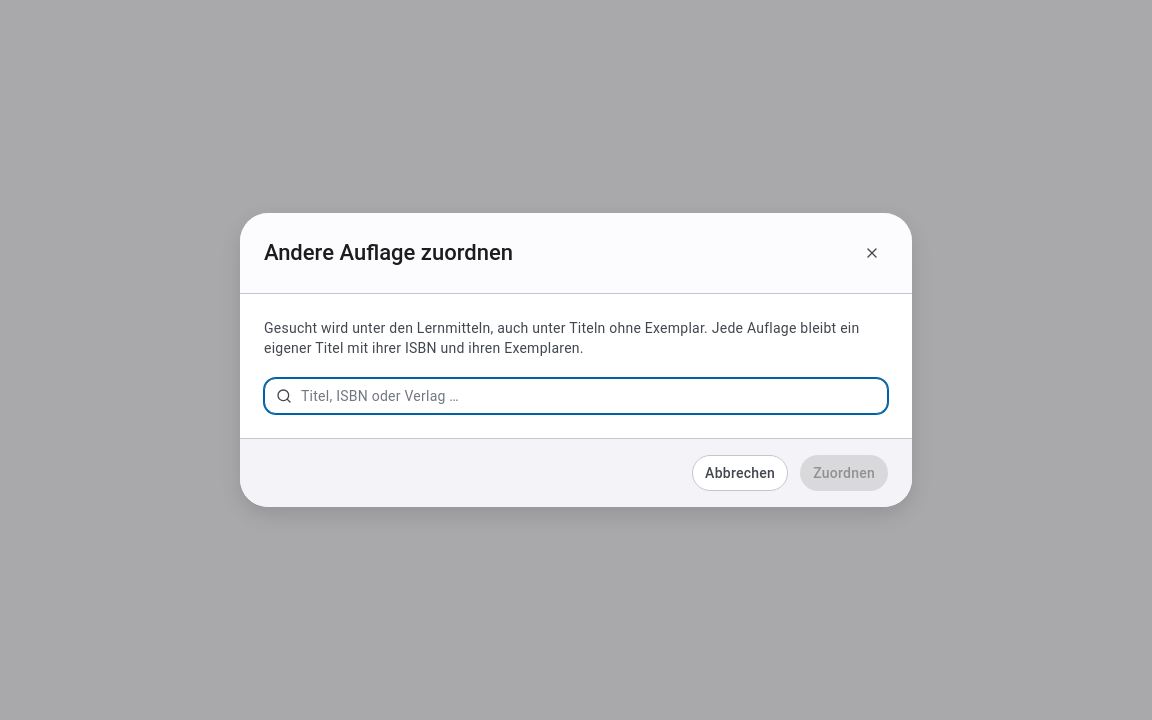
Scenario: AuflageZuordnenDialog › sperrt „Zuordnen" bis zur Wahl, „Abbrechen" nie
Type "Mathe" into the search field named "Andere Auflage suchen" at (576, 396), box [264,378,888,414]
Wait 250 ms
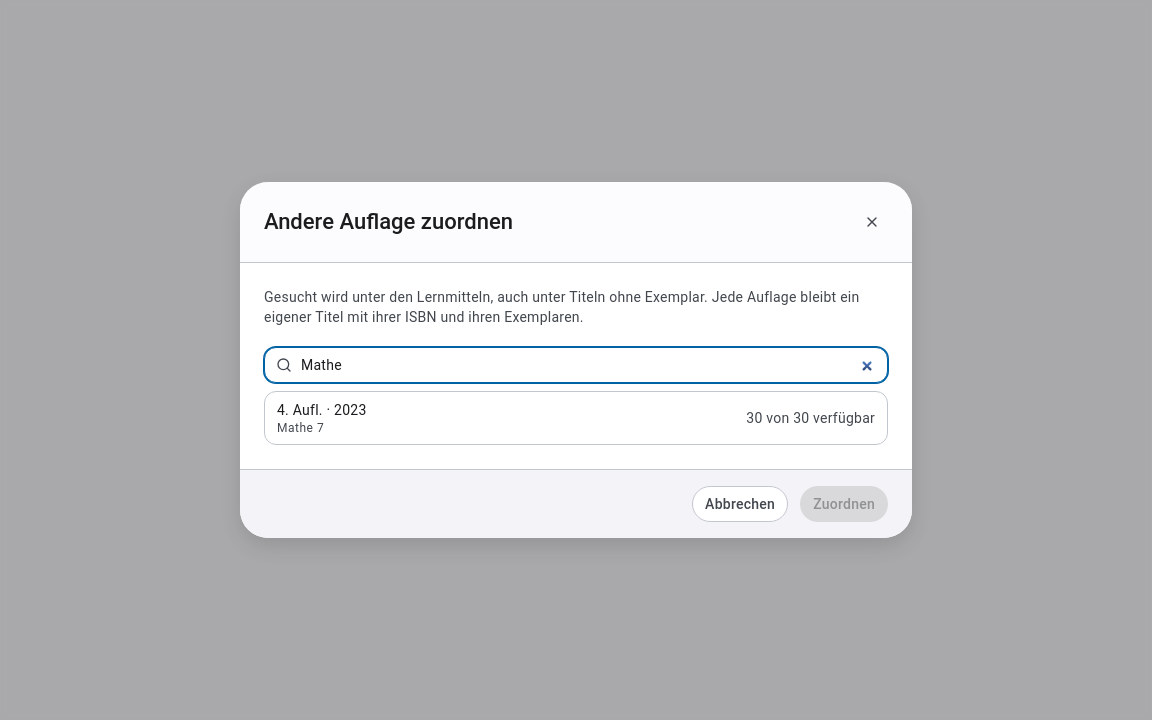
Check: the button "Zuordnen" is disabled, box [800,486,888,522]
Check: the button "Abbrechen" is enabled, box [692,486,788,522]
Click the button "4. Aufl. · 2023 Mathe 7 30 von 30 verfügbar" at (322, 410), box [265,392,887,444]
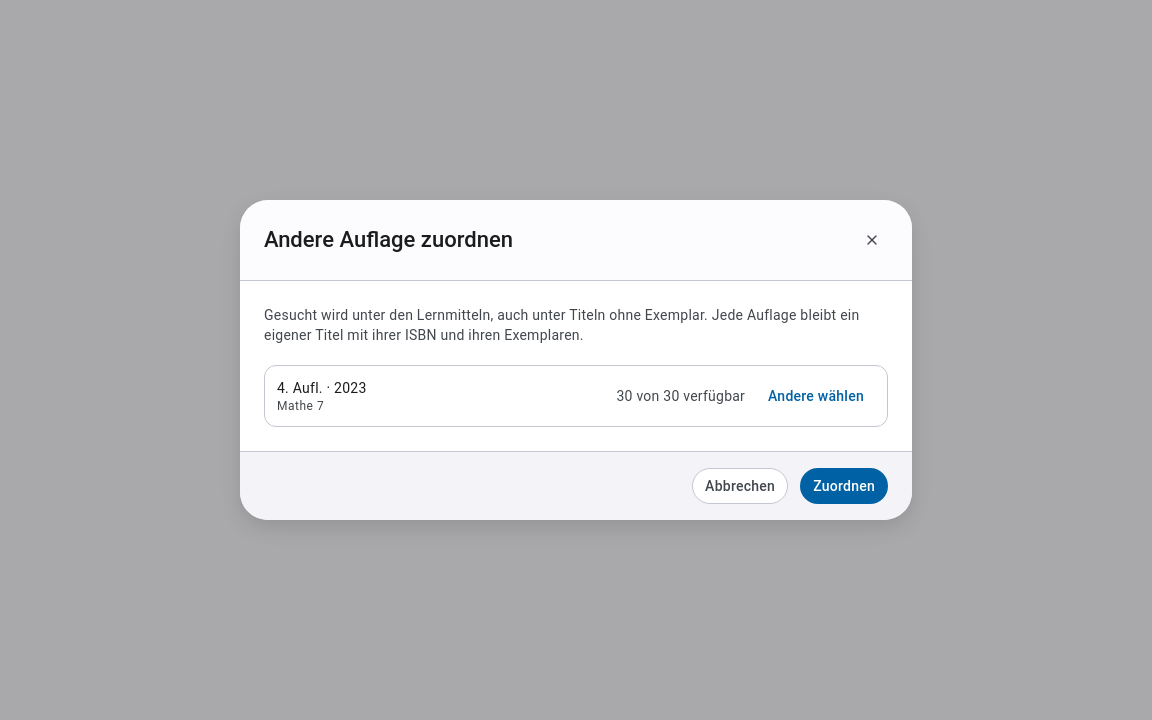
Check: the button "Zuordnen" is enabled, box [800,468,888,504]
